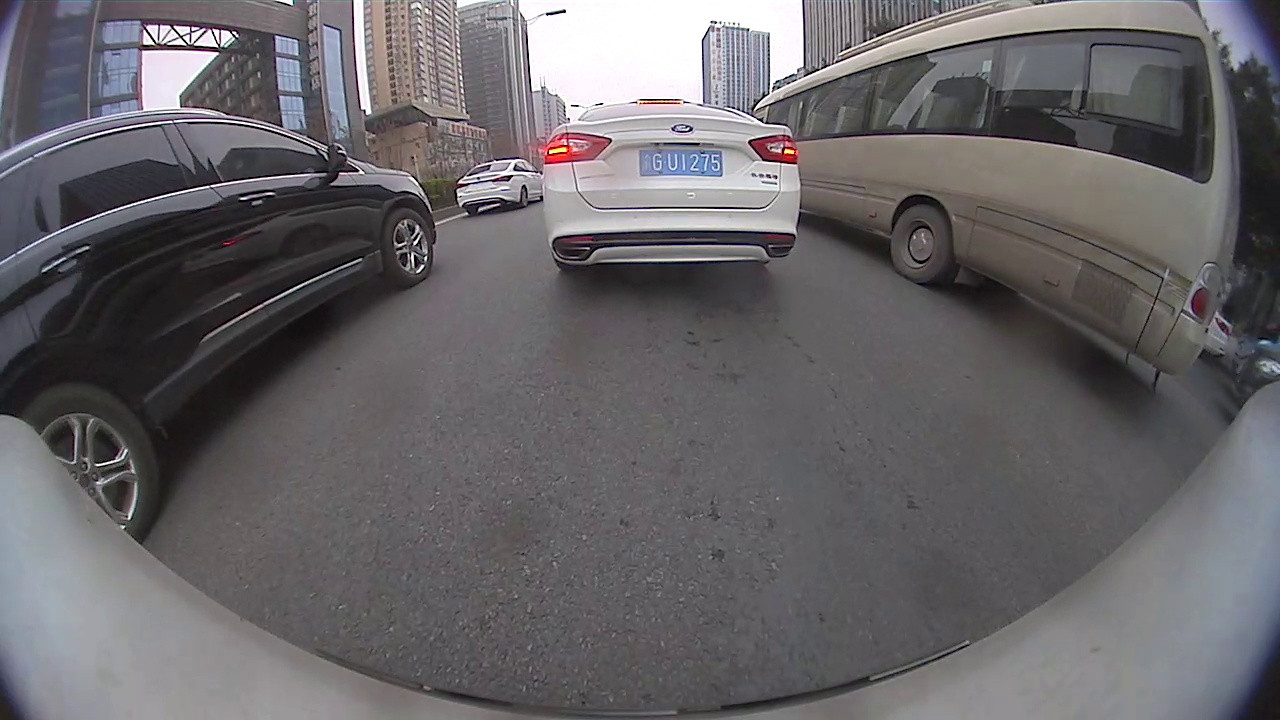bus: (754, 0, 1240, 378)
car: (1, 106, 437, 546), (541, 98, 802, 275), (455, 157, 541, 215), (1231, 340, 1279, 403), (1204, 311, 1234, 361)
front: (381, 206, 435, 287)
rear: (19, 381, 162, 542), (889, 202, 956, 286), (519, 183, 528, 209)
